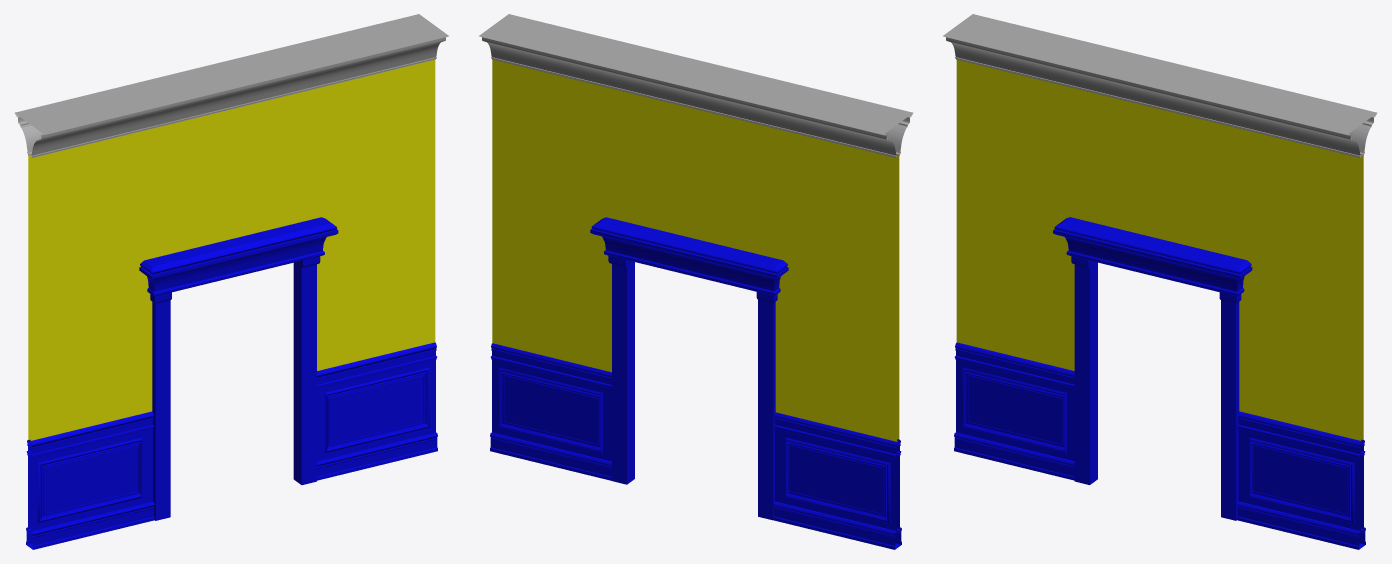
File: Wall_B.fbx
3 views of the same model, side by side, from view 1: azimuth 30°, elevation 25°; view 2: azimuth 150°, elevation 25°; view 3: azimuth 330°, elevation 25° (orthographic).
Visible parts, largest first — view 1: Wall_A4, pCube4; view 2: Wall_A4, pCube4; view 3: Wall_A4, pCube4.
Boxes of the visible parts, x1,y1,x2,y2 form: Wall_A4: (14, 14, 448, 549); pCube4: (139, 217, 338, 520); Wall_A4: (479, 14, 913, 549); pCube4: (590, 217, 788, 520); Wall_A4: (943, 14, 1377, 549); pCube4: (1053, 217, 1252, 520).
Size of the model in its own units: 4 by 4 by 0.5206.
